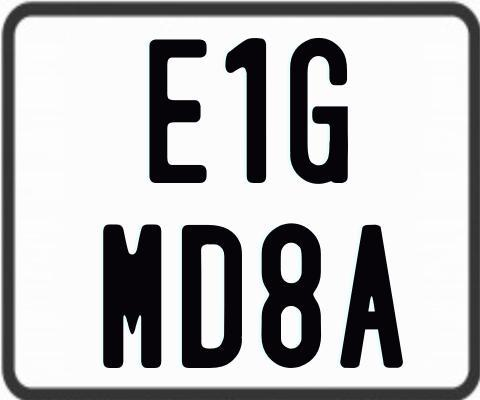1: (225, 37, 270, 186)
8: (258, 222, 324, 370)
A: (339, 224, 406, 370)
D: (182, 224, 245, 368)
E: (148, 36, 206, 181)
G: (288, 38, 350, 190)
M: (103, 222, 166, 366)
